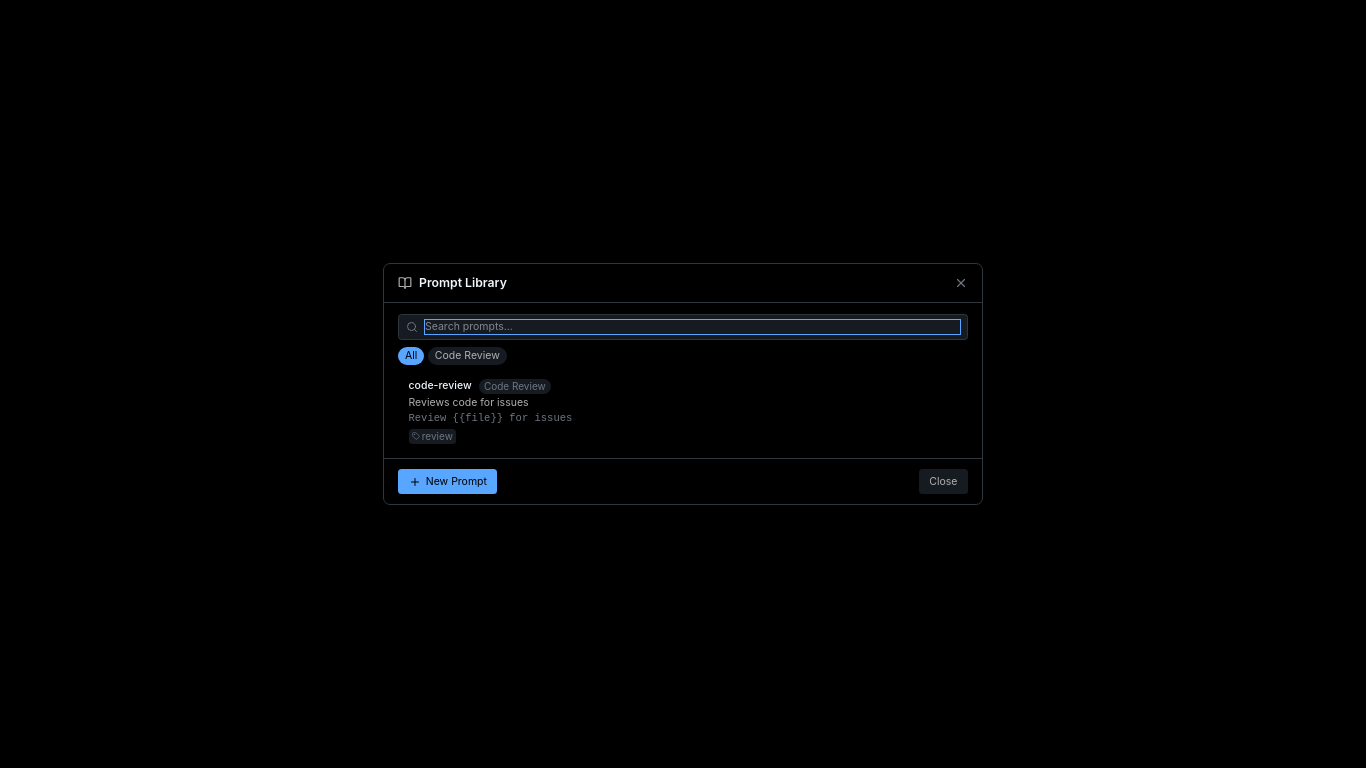
Scenario: PromptLibraryDialog › shows 'No prompts match' when search yields no results but prompts exist
Step 1. Type "zzzznotfound" into the field with placeholder "Search prompts..." → x=692, y=327, box [425,320,960,334]
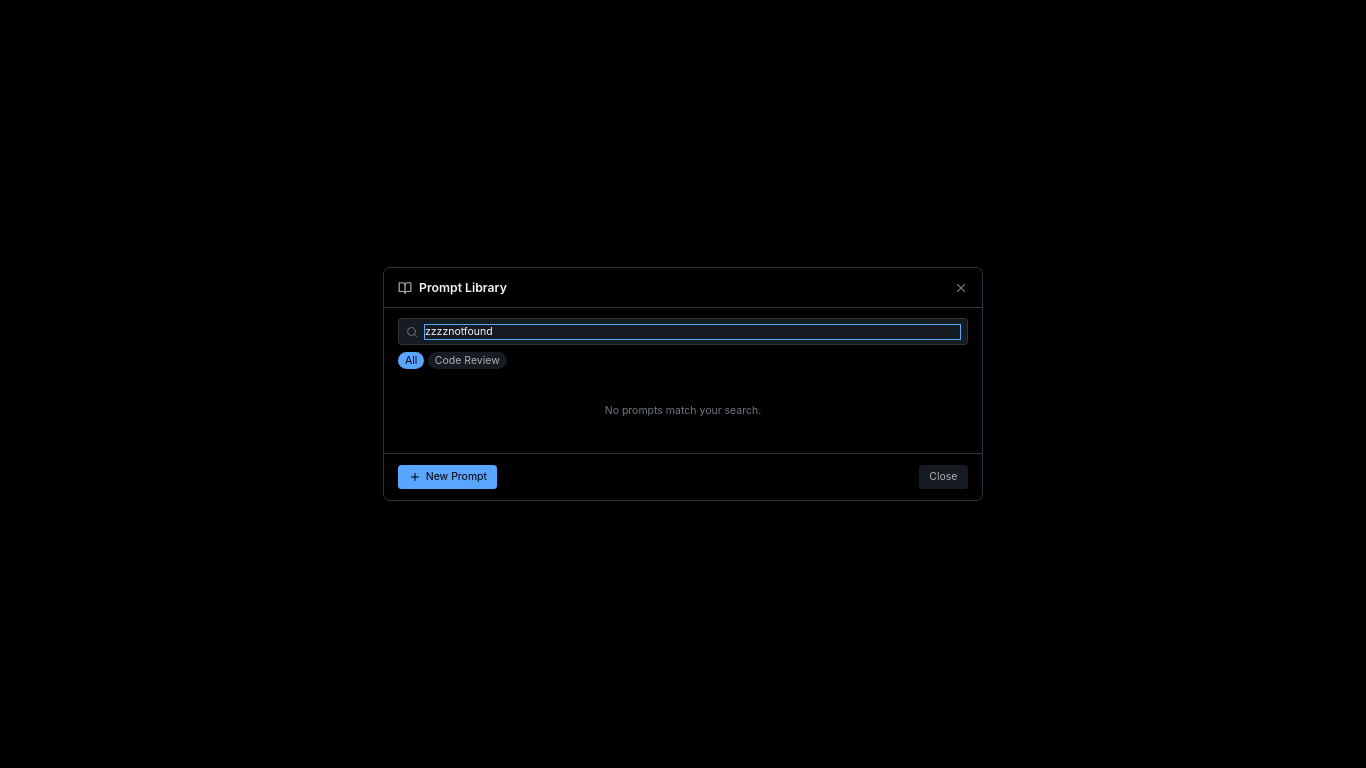
Check: the text "No prompts match your search." is shown, box [605,404,761,417]
